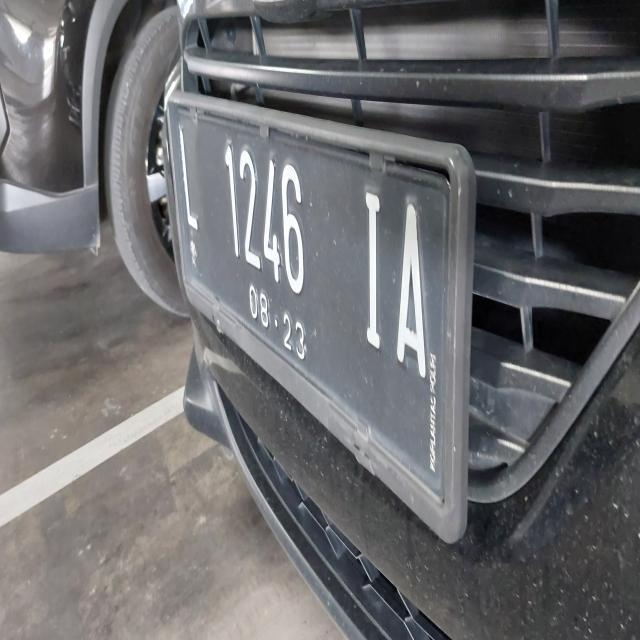1: (220, 141, 240, 263)
2: (238, 140, 264, 280)
4: (264, 143, 280, 290)
6: (282, 146, 306, 297)
A: (397, 194, 427, 387)
I: (357, 172, 389, 356)
L: (176, 121, 202, 242)
